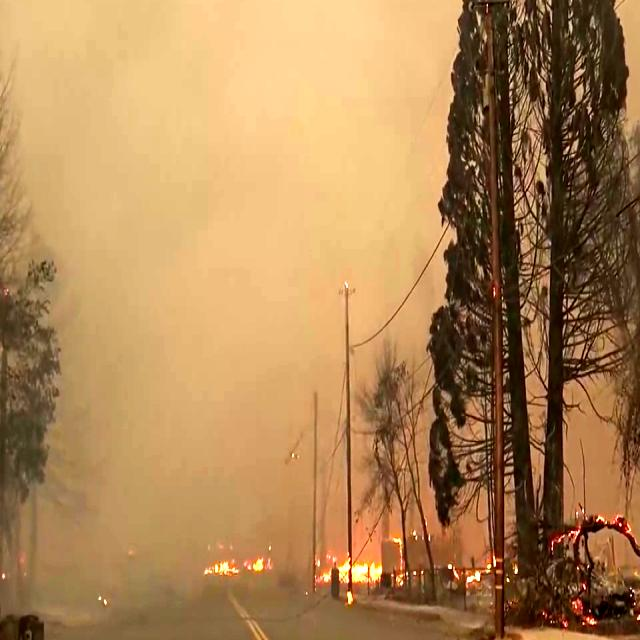smoke: (59, 0, 356, 254)
